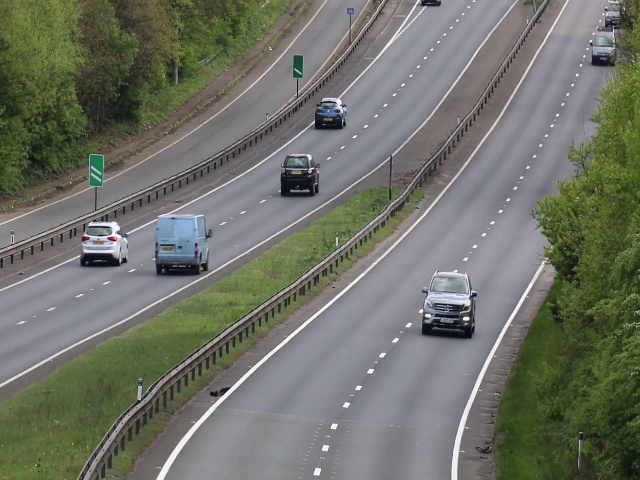car: (424, 270, 476, 338), (154, 213, 211, 275), (79, 221, 130, 267), (276, 153, 324, 196), (312, 95, 350, 127), (592, 29, 617, 63)
